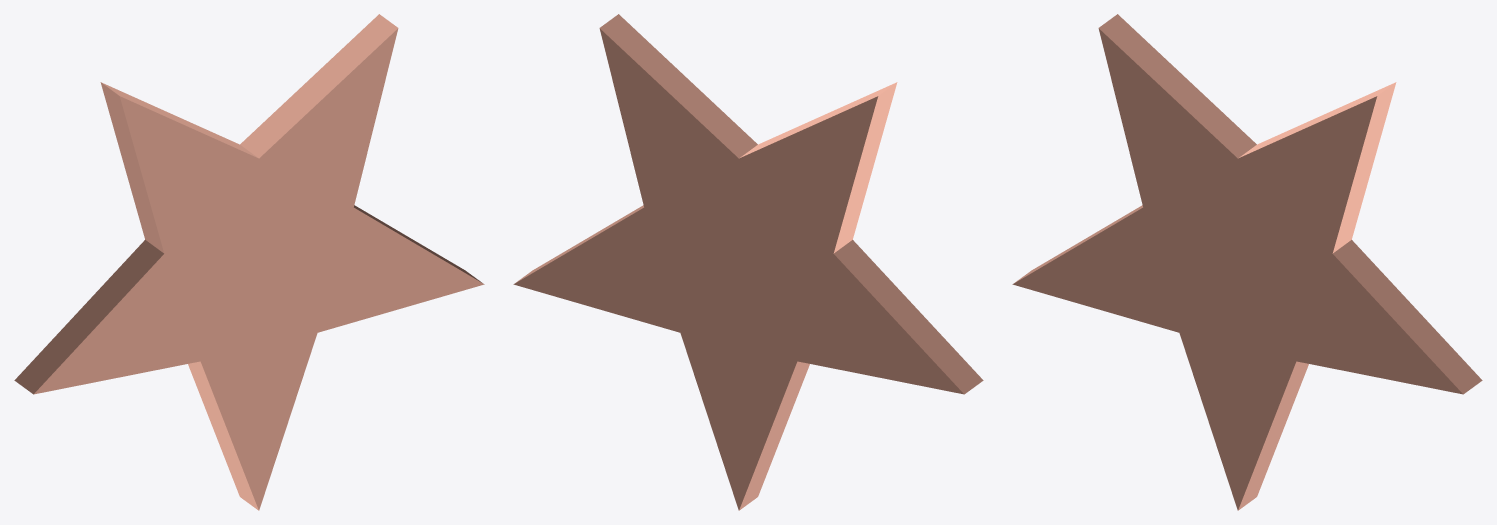
Rendered from badge_jack_jack.glb.
3 renders of one model, left to right at view 1: azimuth 30°, elevation 25°; view 2: azimuth 150°, elevation 25°; view 3: azimuth 330°, elevation 25°, orthographic.
Visible parts, largest first — view 1: badge; view 2: badge; view 3: badge.
Part boxes in pixels (left/top/right/bottom): badge: left=14, top=14, right=484, bottom=510; badge: left=513, top=14, right=983, bottom=510; badge: left=1012, top=14, right=1482, bottom=510.
Bounding box in the file's own units: 1.9 × 1.81 × 0.14.
